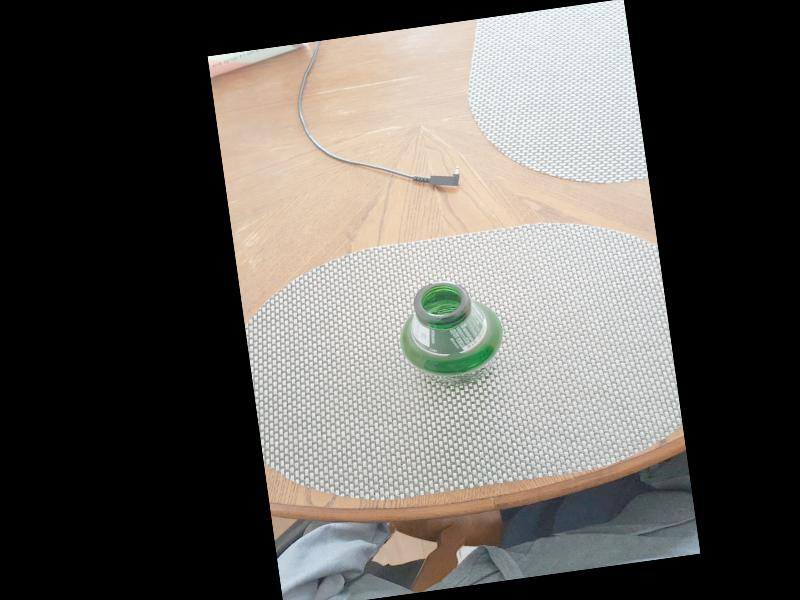Beer: (399, 276, 504, 390)
